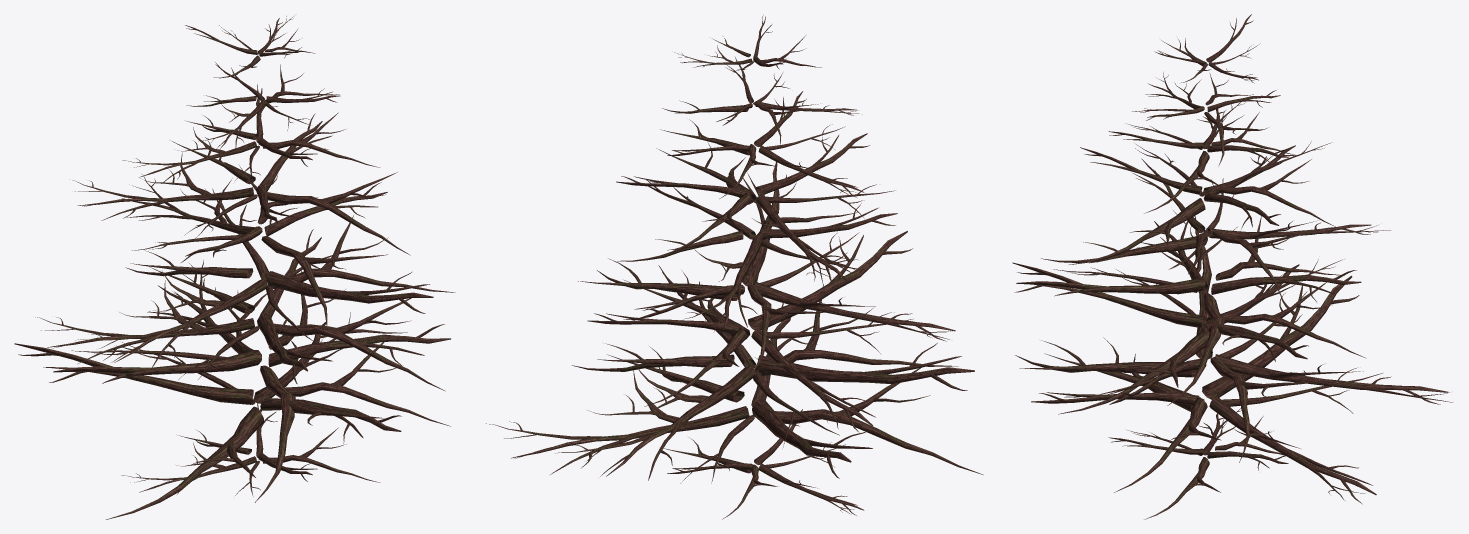
File: BranchTest.FBX
3 renders of one model, left to right at view 1: azimuth 30°, elevation 25°; view 2: azimuth 150°, elevation 25°; view 3: azimuth 270°, elevation 25°, orthographic. The views are drawn at different scales.
Parts seen in each view (by area): view 1: Object1212; view 2: Object1212; view 3: Object1212.
Boxes of the visible parts, x1,y1,x2,y2 form: Object1212: (14,15,455,519); Object1212: (486,15,983,519); Object1212: (1012,14,1453,519).
Bounding box in the file's own units: 545 × 577 × 527.
